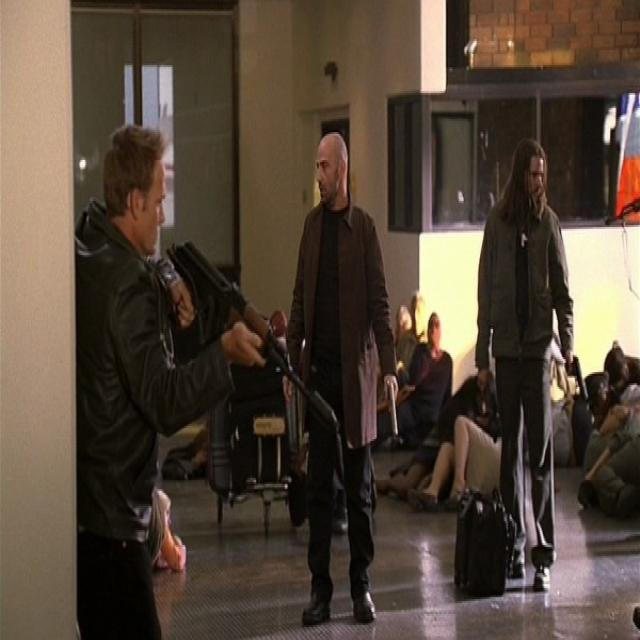rifle: (168, 240, 341, 433)
